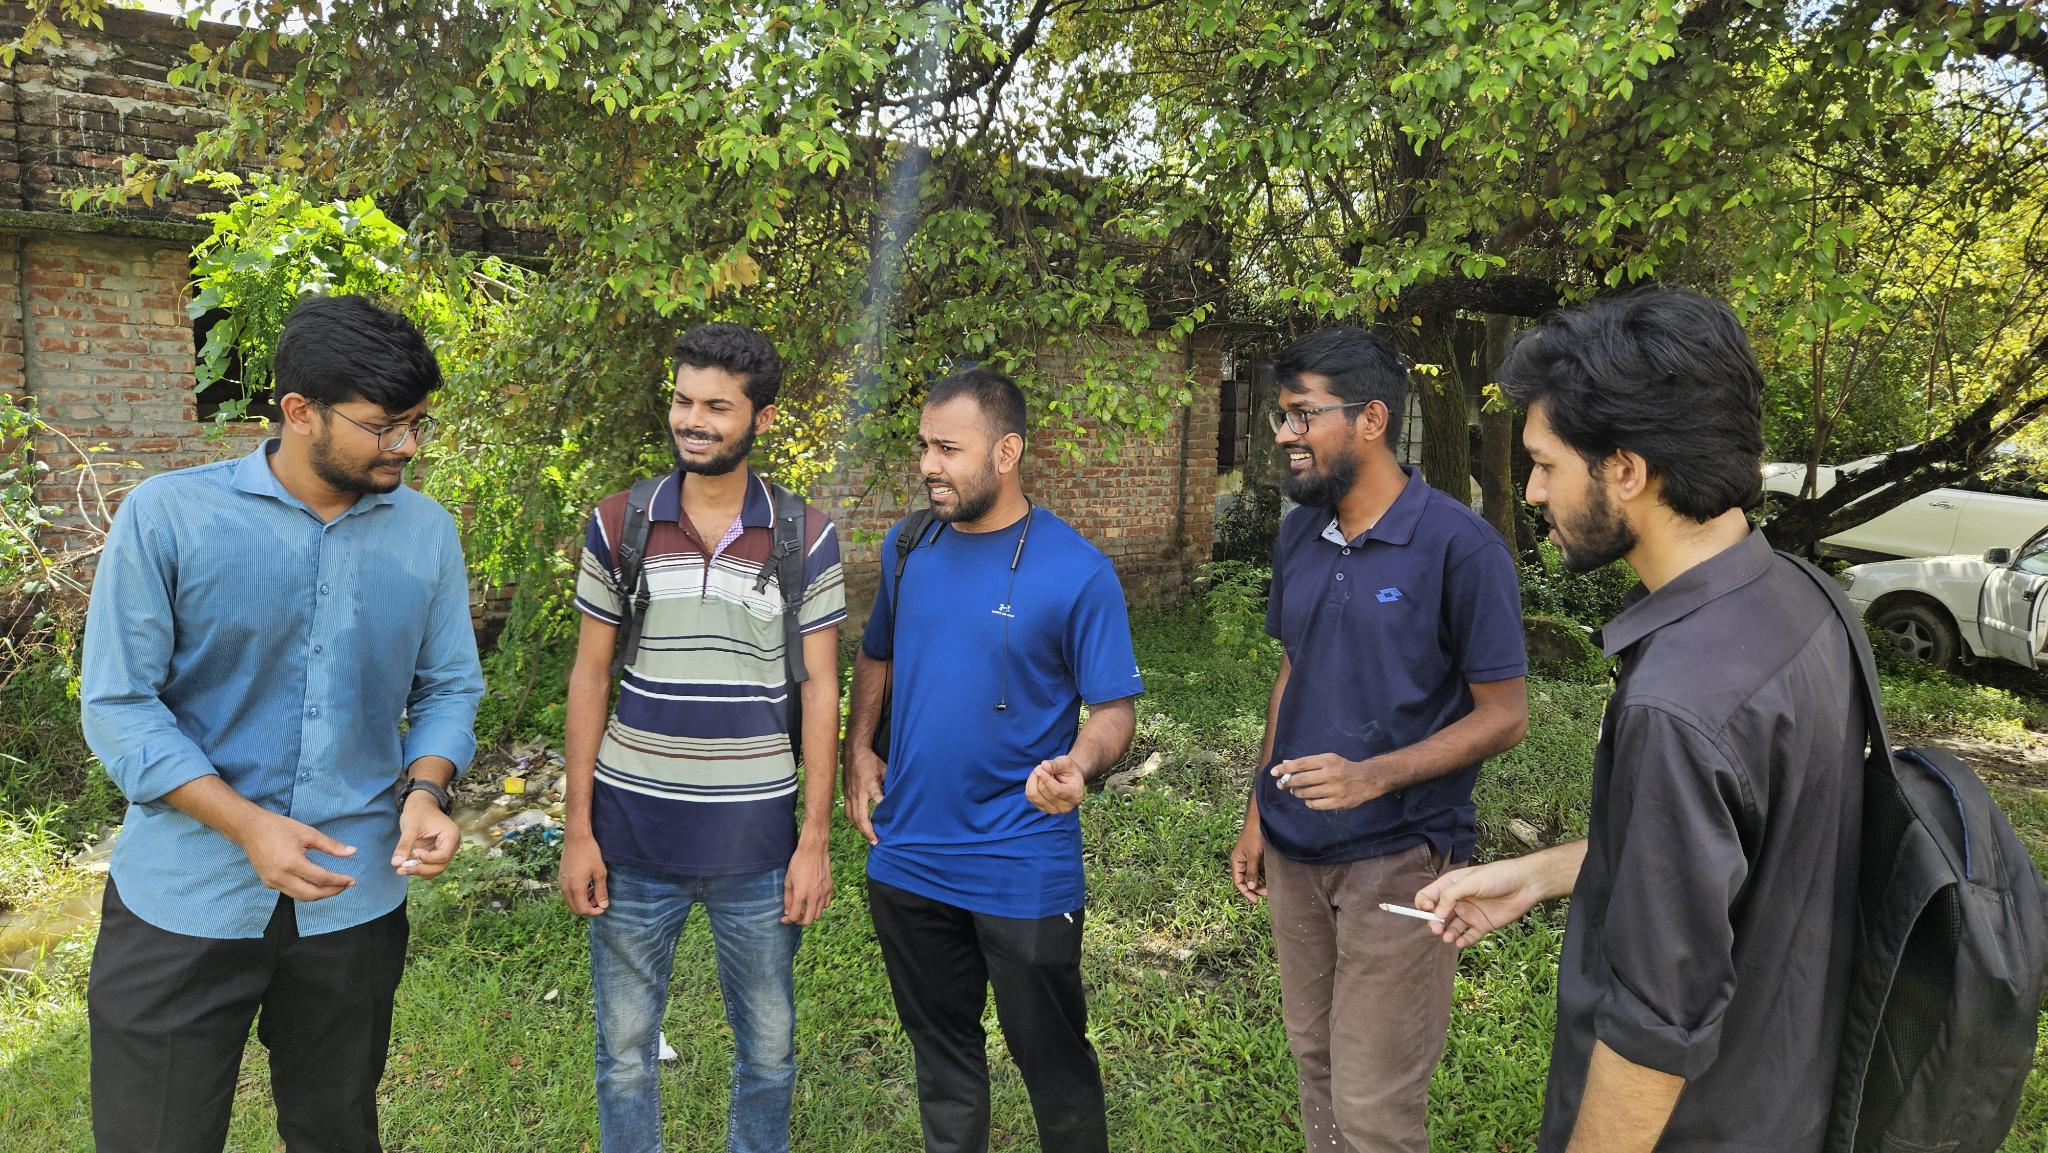cigarette: (1376, 900, 1450, 927), (1274, 769, 1295, 792), (398, 856, 422, 872)
nonSmoker: (558, 323, 848, 1153), (843, 367, 1145, 1153)
smoker: (1415, 299, 2048, 1153), (80, 295, 485, 1153), (1229, 328, 1530, 1153)
